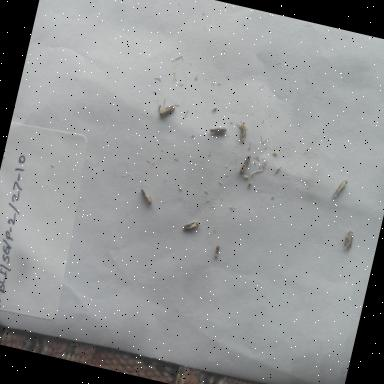pbw: (338, 226, 359, 258), (234, 118, 255, 146), (234, 151, 254, 180), (332, 175, 352, 204), (155, 99, 178, 121), (182, 215, 202, 237), (136, 186, 156, 207), (208, 121, 229, 139), (210, 241, 224, 263)
